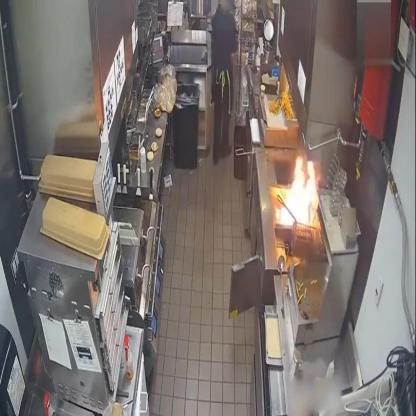fire: (275, 149, 322, 231)
